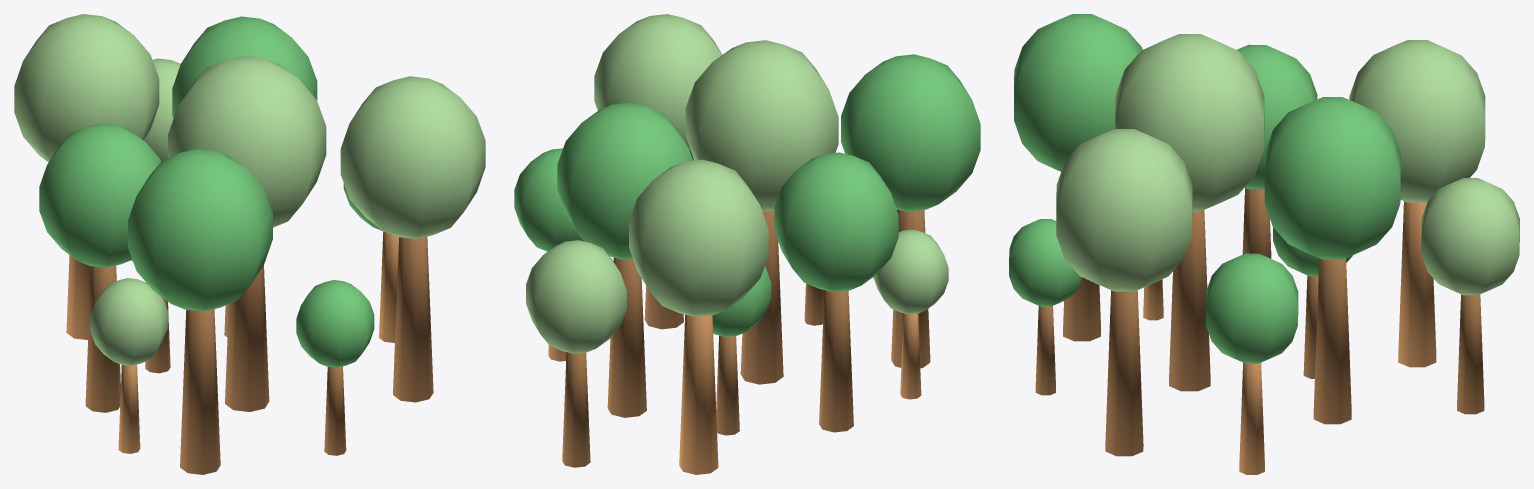
The model's file is trees4.glb.
3 views of the same model, side by side, from view 1: azimuth 30°, elevation 25°; view 2: azimuth 150°, elevation 25°; view 3: azimuth 270°, elevation 25° (orthographic). The views are drawn at different scales.
Parts seen in each view (by area): view 1: Plane.007; view 2: Plane.007; view 3: Plane.007.
Part boxes in pixels (x1,y1,x2,y2): Plane.007: (14, 14, 485, 474); Plane.007: (514, 14, 980, 474); Plane.007: (1009, 14, 1519, 474).
Size of the model in its own units: 5.45 by 4.68 by 6.24.
